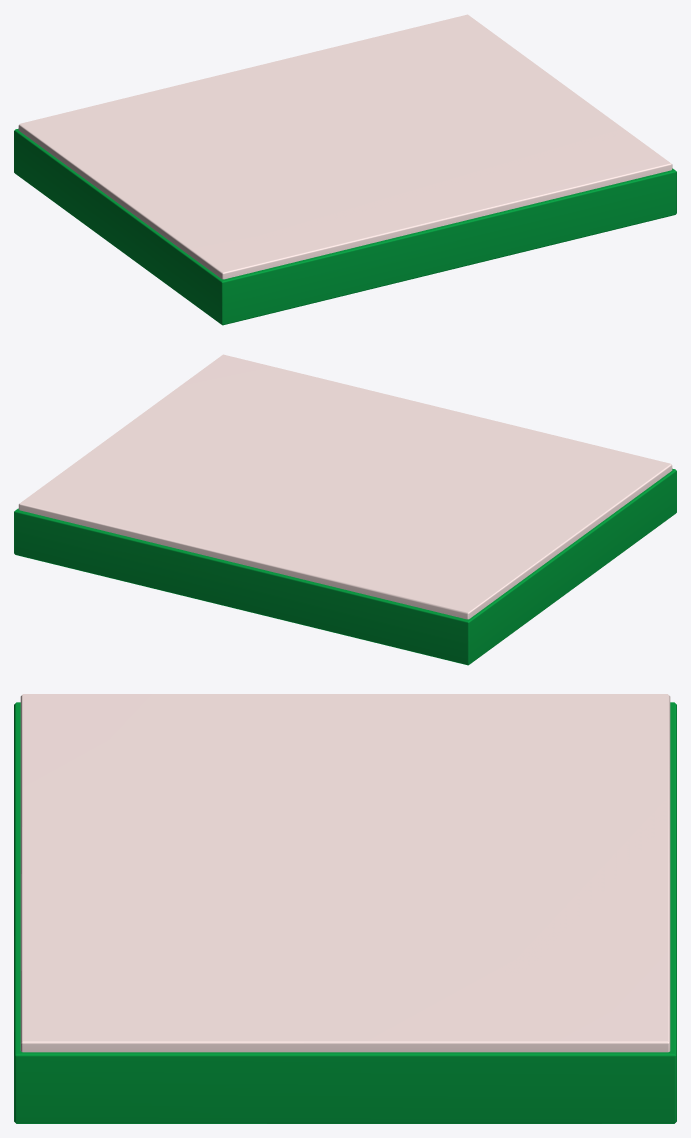
The model's file is Store_15_Base_1.glb.
3 views of the same model, one above another, from view 1: azimuth 30°, elevation 25°; view 2: azimuth 150°, elevation 25°; view 3: azimuth 270°, elevation 25° (orthographic). The views are drawn at different scales.
Parts seen in each view (by area): view 1: Store_15_Base_1; view 2: Store_15_Base_1; view 3: Store_15_Base_1.
Part boxes in pixels (left/top/right/bottom): Store_15_Base_1: left=14, top=14, right=676, bottom=325; Store_15_Base_1: left=14, top=354, right=676, bottom=665; Store_15_Base_1: left=14, top=694, right=676, bottom=1123.
Bounding box in the file's own units: 15.07 × 1.61 × 11.95.
1 material, 1 textured.
